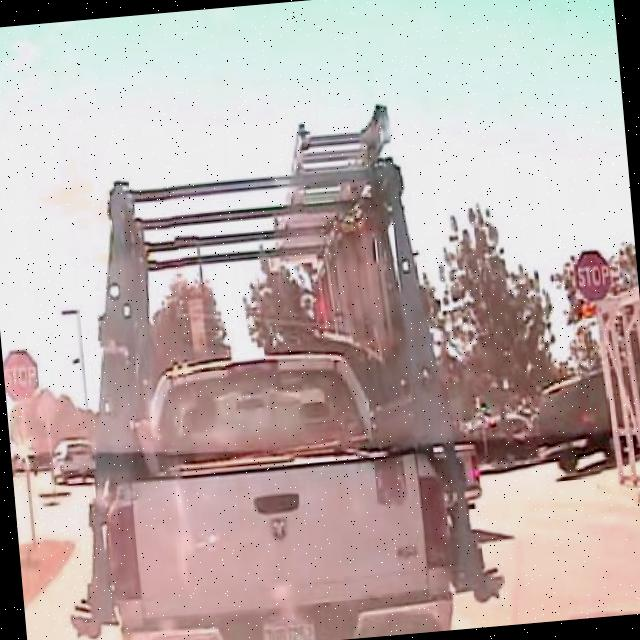Stop: (572, 246, 614, 303)
